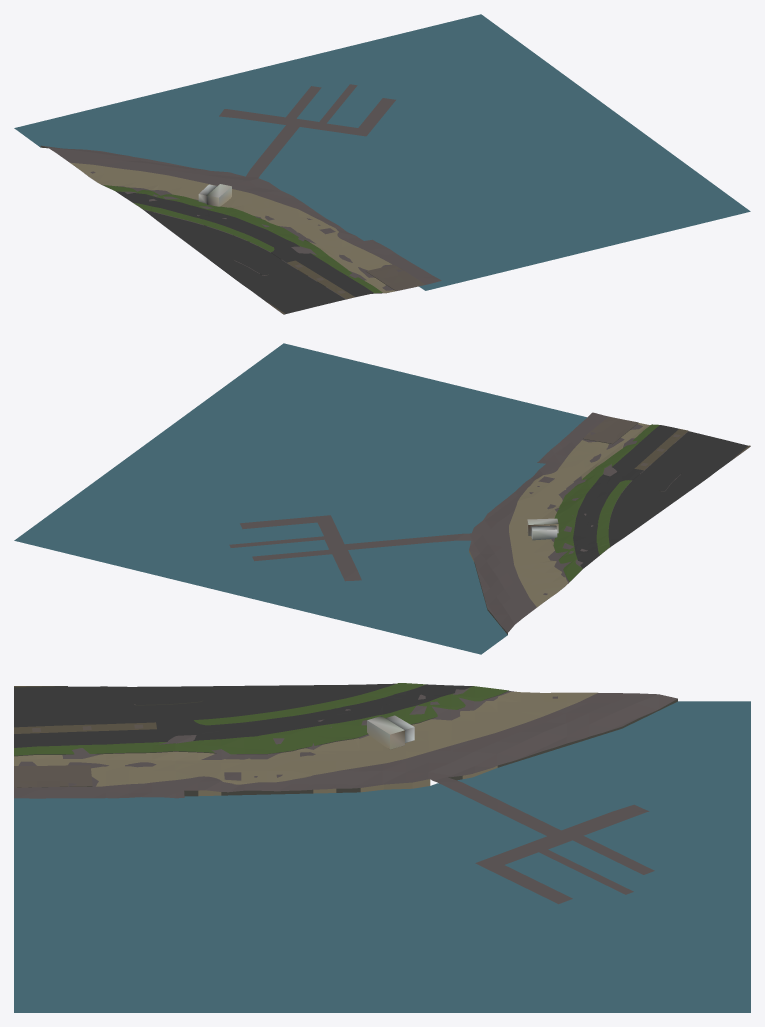
3 renders of one model, top to bottom at view 1: azimuth 30°, elevation 25°; view 2: azimuth 150°, elevation 25°; view 3: azimuth 270°, elevation 25°, orthographic. The views are drawn at different scales.
Parts seen in each view (by area): view 1: c_p04_m06; view 2: c_p04_m06; view 3: c_p04_m06.
Part boxes in pixels (left/top/right/bottom): c_p04_m06: left=14, top=14, right=750, bottom=314; c_p04_m06: left=14, top=343, right=750, bottom=654; c_p04_m06: left=14, top=683, right=750, bottom=1012.
Bounding box in the file's own units: 128 × 4.61 × 128.
